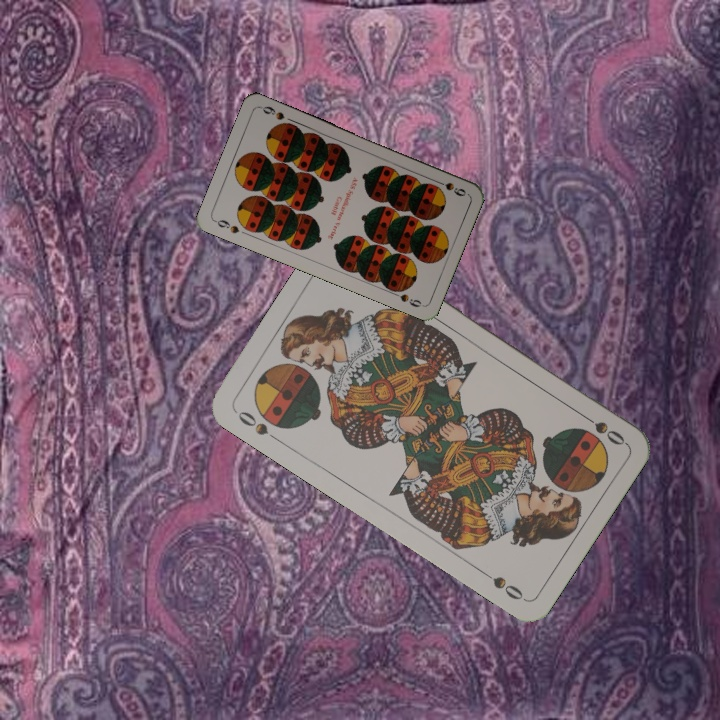S9: (430, 176, 469, 199), (210, 215, 242, 236)
SO: (576, 408, 628, 448), (231, 406, 283, 445)
